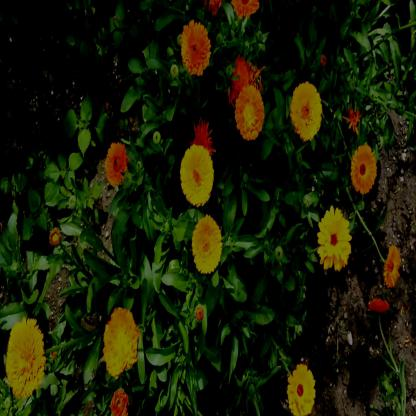marigold: (6, 318, 44, 392), (103, 309, 137, 373), (181, 144, 214, 207), (319, 210, 351, 271), (192, 216, 222, 277), (291, 84, 322, 138), (179, 21, 209, 74), (235, 88, 263, 138), (288, 364, 315, 414), (352, 147, 375, 190), (106, 143, 127, 188), (383, 249, 401, 289)
